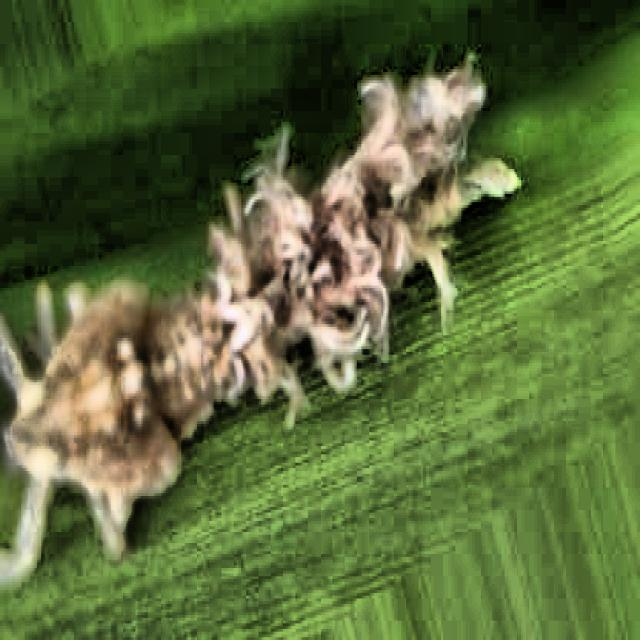Pyrilla-perpusilla: (2, 20, 528, 495)
